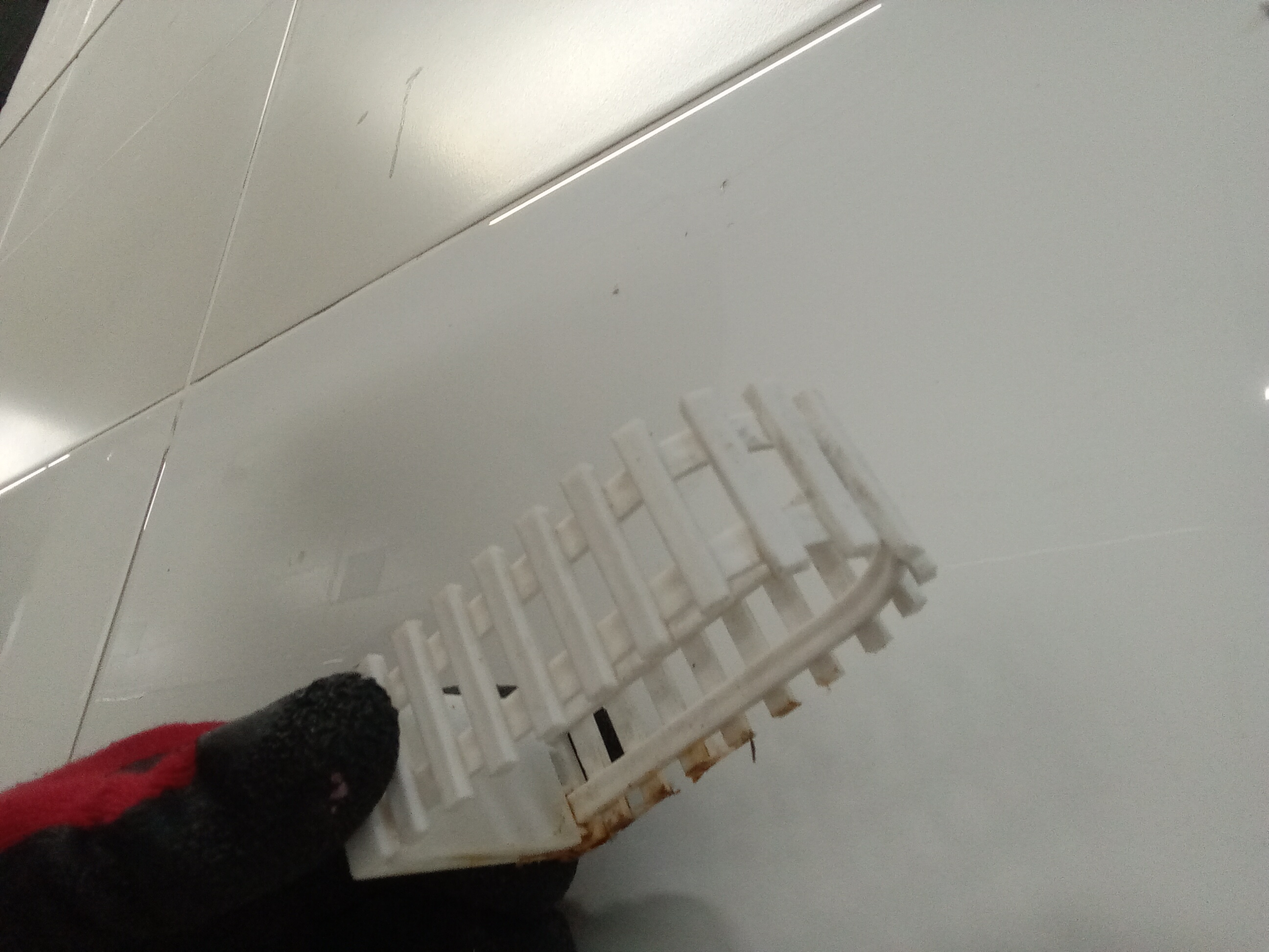Ordinario: (345, 377, 938, 878)
